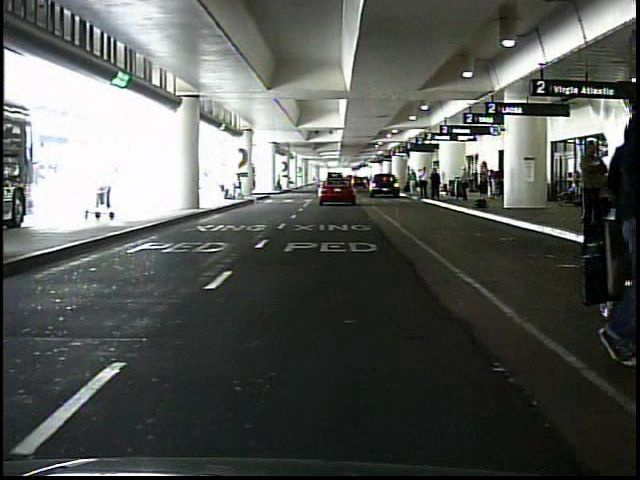person: (575, 138, 609, 252), (476, 161, 490, 208), (458, 166, 471, 203), (430, 167, 443, 202), (418, 165, 430, 200), (407, 168, 418, 197), (231, 173, 243, 199), (275, 172, 284, 189)
